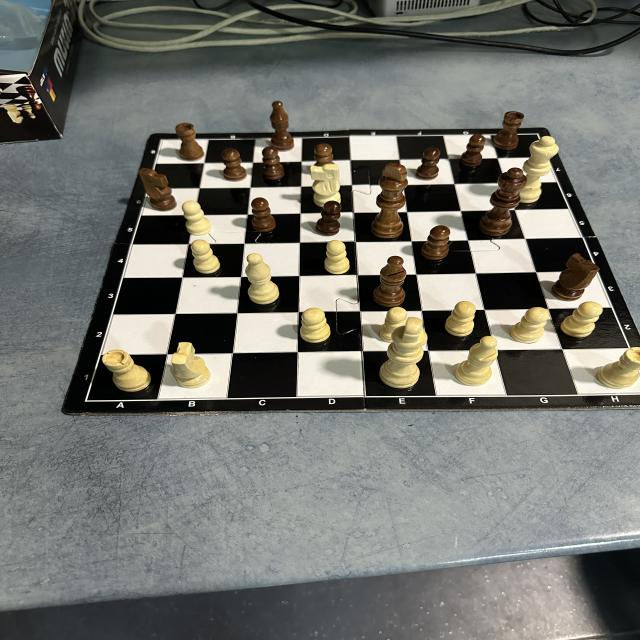Black-Bishop: (372, 255, 408, 307), (269, 101, 295, 151)
Black-King: (369, 162, 409, 238)
Black-Knight: (551, 252, 599, 302), (139, 168, 177, 212)
Black-Pawn: (421, 225, 450, 260), (459, 132, 486, 168), (315, 201, 342, 236), (251, 197, 277, 233), (220, 147, 247, 181), (259, 146, 285, 180), (415, 146, 440, 180), (313, 143, 334, 167)
Black-Queen: (478, 168, 528, 236)
Black-Rook: (492, 111, 525, 150), (174, 122, 204, 162)
White-Bishop: (456, 336, 498, 386), (245, 253, 279, 304)
White-King: (378, 316, 428, 388)
White-Knight: (170, 342, 210, 388), (312, 163, 342, 209)
White-Pawn: (560, 301, 603, 338), (511, 307, 549, 343), (445, 300, 476, 337), (181, 200, 212, 236), (300, 307, 331, 343), (190, 239, 220, 274), (380, 307, 409, 343), (324, 240, 350, 274)
White-Queen: (519, 135, 560, 204)
White-Rook: (102, 349, 152, 393), (596, 346, 640, 389)
